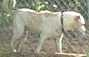dog: (11, 6, 87, 50)
